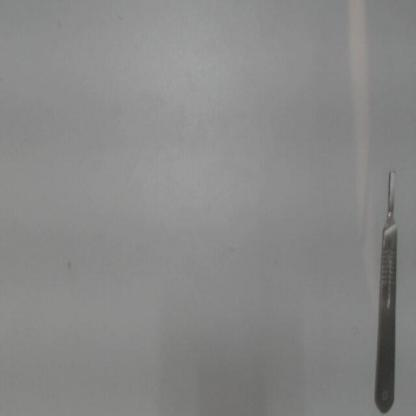No.4 BP Handle: (370, 164, 402, 415)
